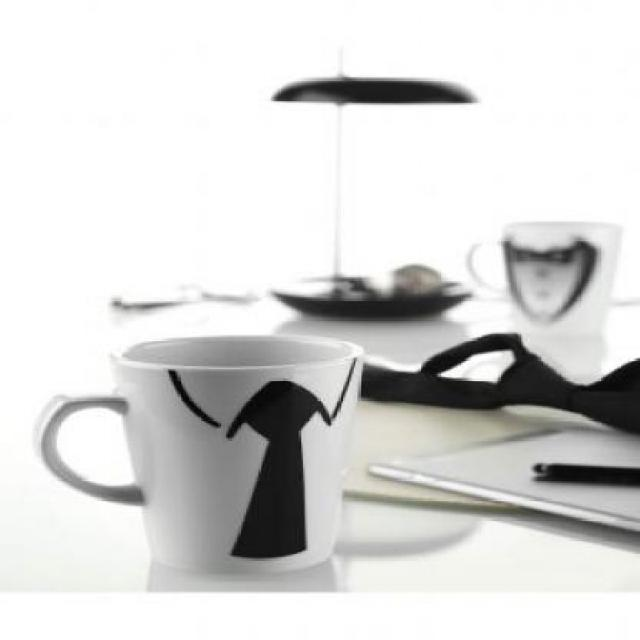taza: (32, 336, 366, 575), (464, 221, 640, 347)
